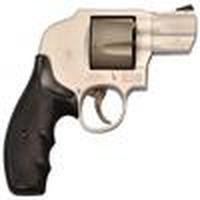gun: (1, 3, 200, 197)
